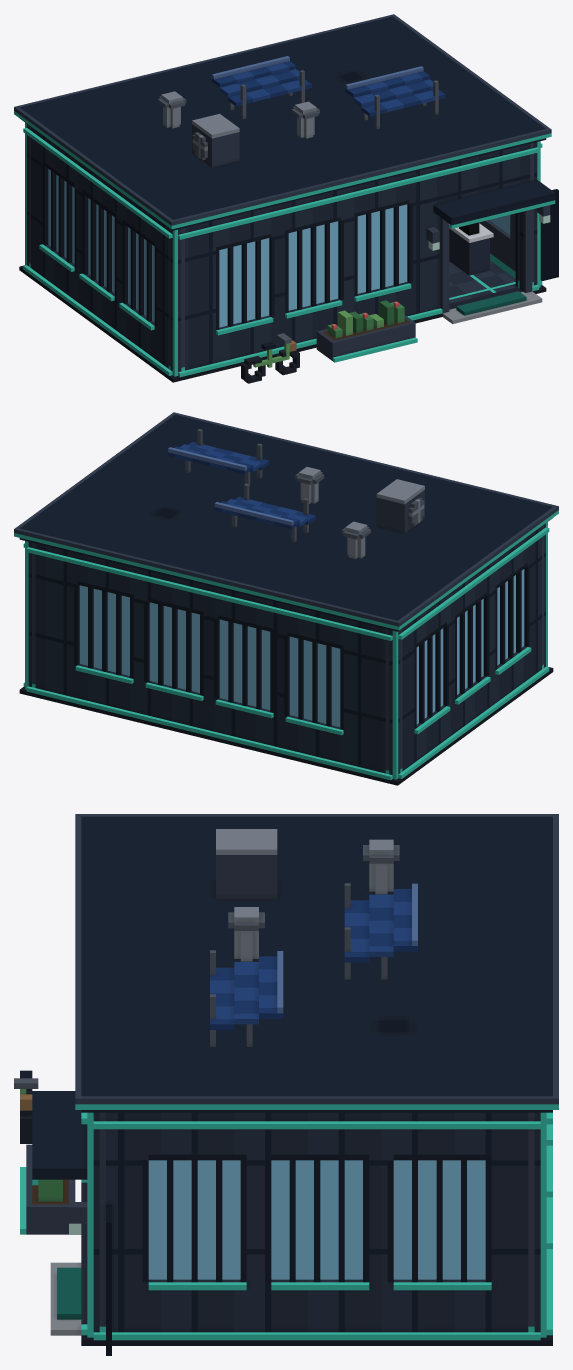
File: control_e4_l1.glb
3 views of the same model, one above another, from view 1: azimuth 30°, elevation 25°; view 2: azimuth 150°, elevation 25°; view 3: azimuth 270°, elevation 25° (orthographic). The views are drawn at different scales.
Parts seen in each view (by area): view 1: CutRoof, CutPZ, Base, CutNX, CutNZ, CutPX; view 2: CutRoof, CutNZ, Base, CutNX, CutPZ; view 3: CutRoof, CutPX, Base, CutPZ, CutNZ.
Boxes of the visible parts, bbox=[...] form: CutRoof: bbox=[14, 14, 551, 230]; CutPZ: bbox=[168, 141, 558, 344]; Base: bbox=[19, 221, 558, 383]; CutNX: bbox=[23, 127, 172, 339]; CutNZ: bbox=[25, 122, 30, 238]; CutPX: bbox=[482, 143, 542, 246]; CutRoof: bbox=[14, 412, 558, 631]; CutNZ: bbox=[25, 541, 402, 746]; Base: bbox=[19, 636, 553, 785]; CutNX: bbox=[398, 526, 549, 741]; CutPZ: bbox=[542, 522, 547, 639]; CutRoof: bbox=[75, 814, 558, 1112]; CutPX: bbox=[93, 1112, 540, 1290]; Base: bbox=[14, 1070, 552, 1355]; CutPZ: bbox=[32, 1091, 111, 1305]; CutNZ: bbox=[528, 1112, 552, 1287].
Bounding box in the file's own units: 11.5 × 5.4 × 8.9.
